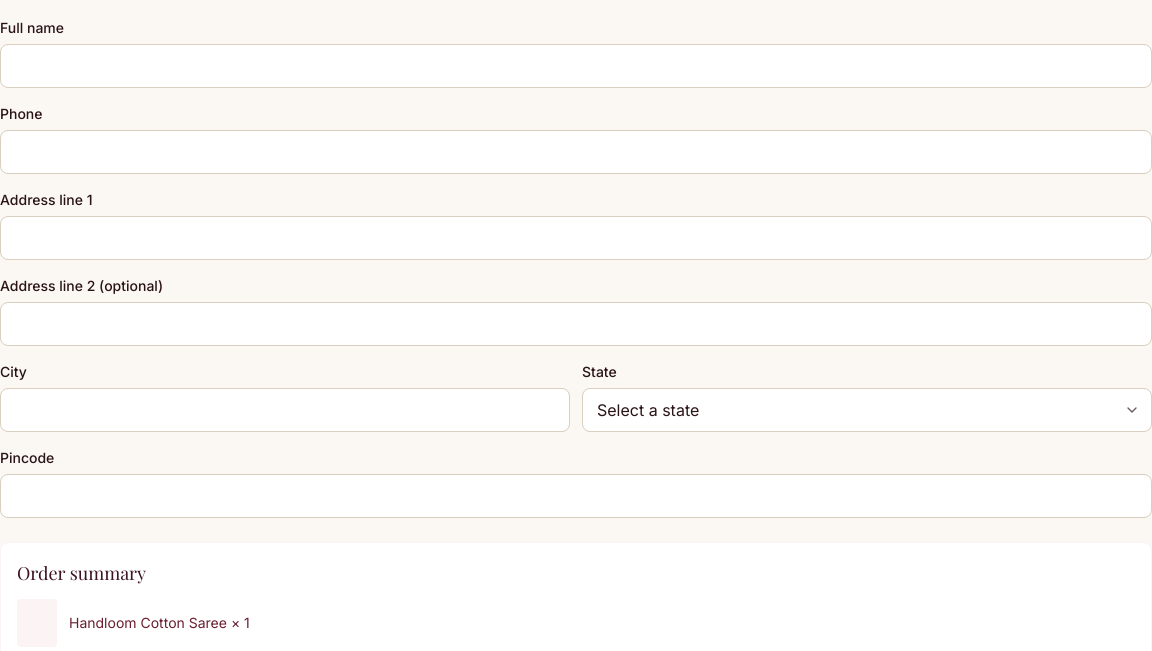
Scenario: CheckoutForm › pincode-based shipping › prices by the pincode even if a different state was picked first
Select "Tamil Nadu" in the dropdown labelled "State": (867, 410) [582,388,1151,432]
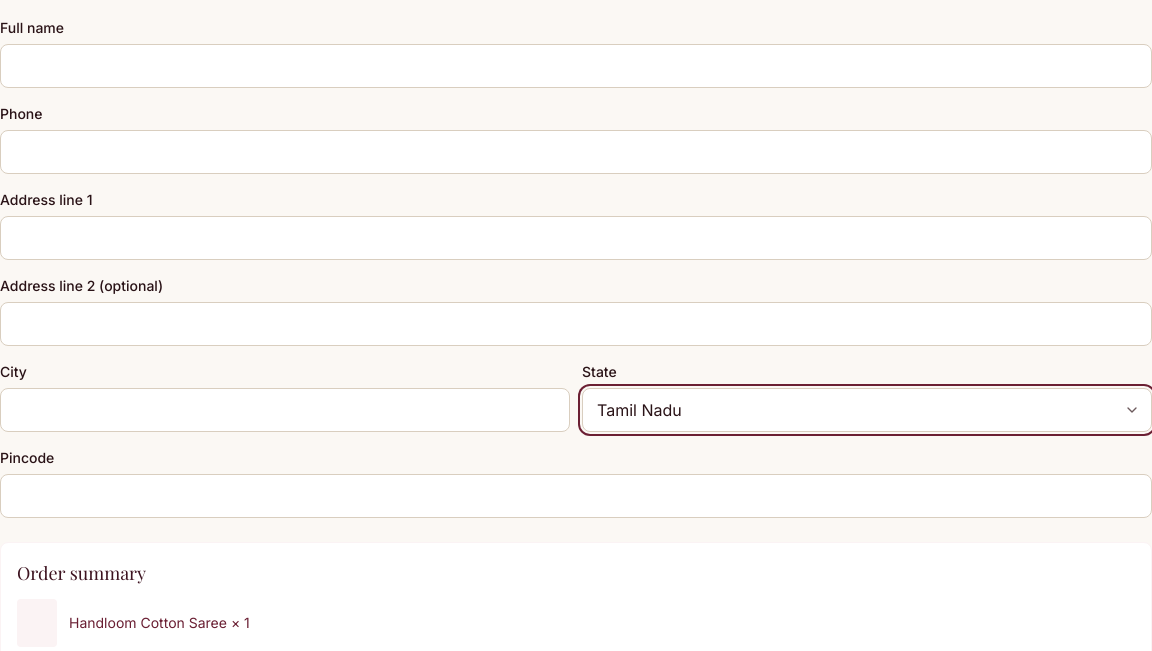
In the field labelled "Pincode": (576, 496) [0,474,1151,518], type "110001"
(page scrolled)
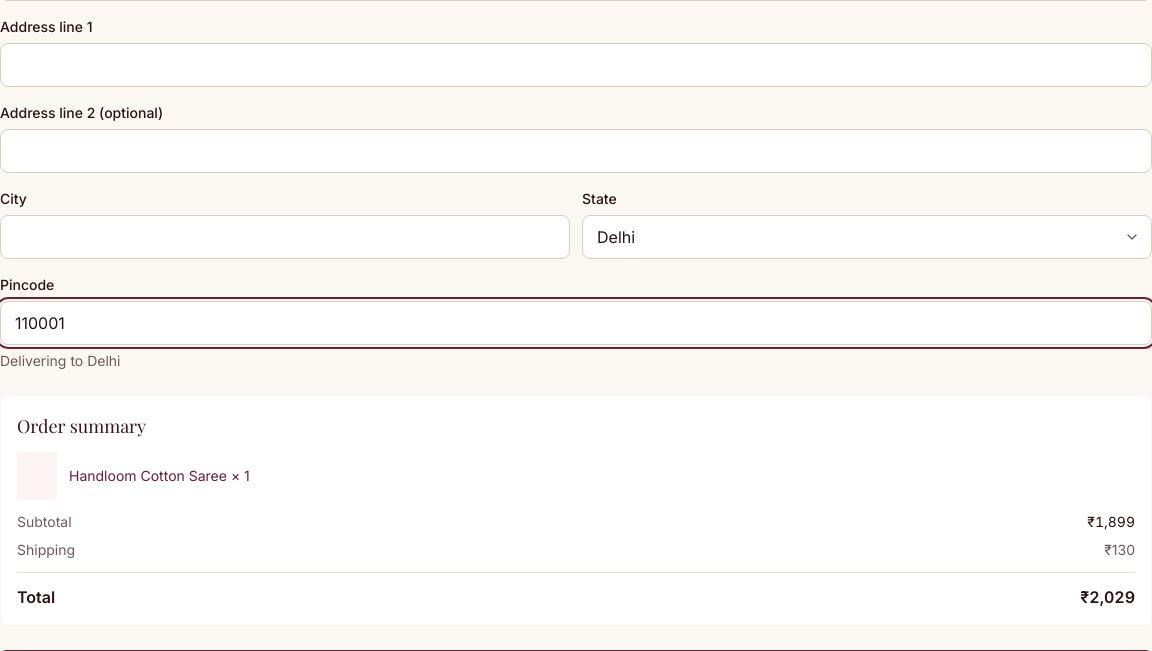
expect the text "₹130" is shown: met, box [1104,540,1135,560]
